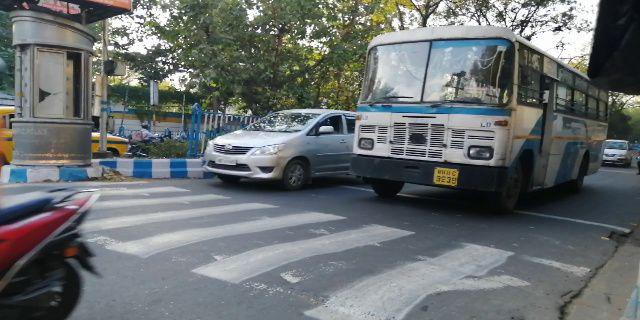Bus: (352, 25, 608, 217)
Car: (200, 107, 355, 187), (602, 138, 634, 170)
